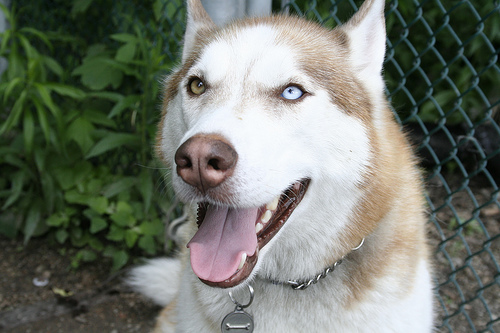dog: (120, 0, 442, 332)
